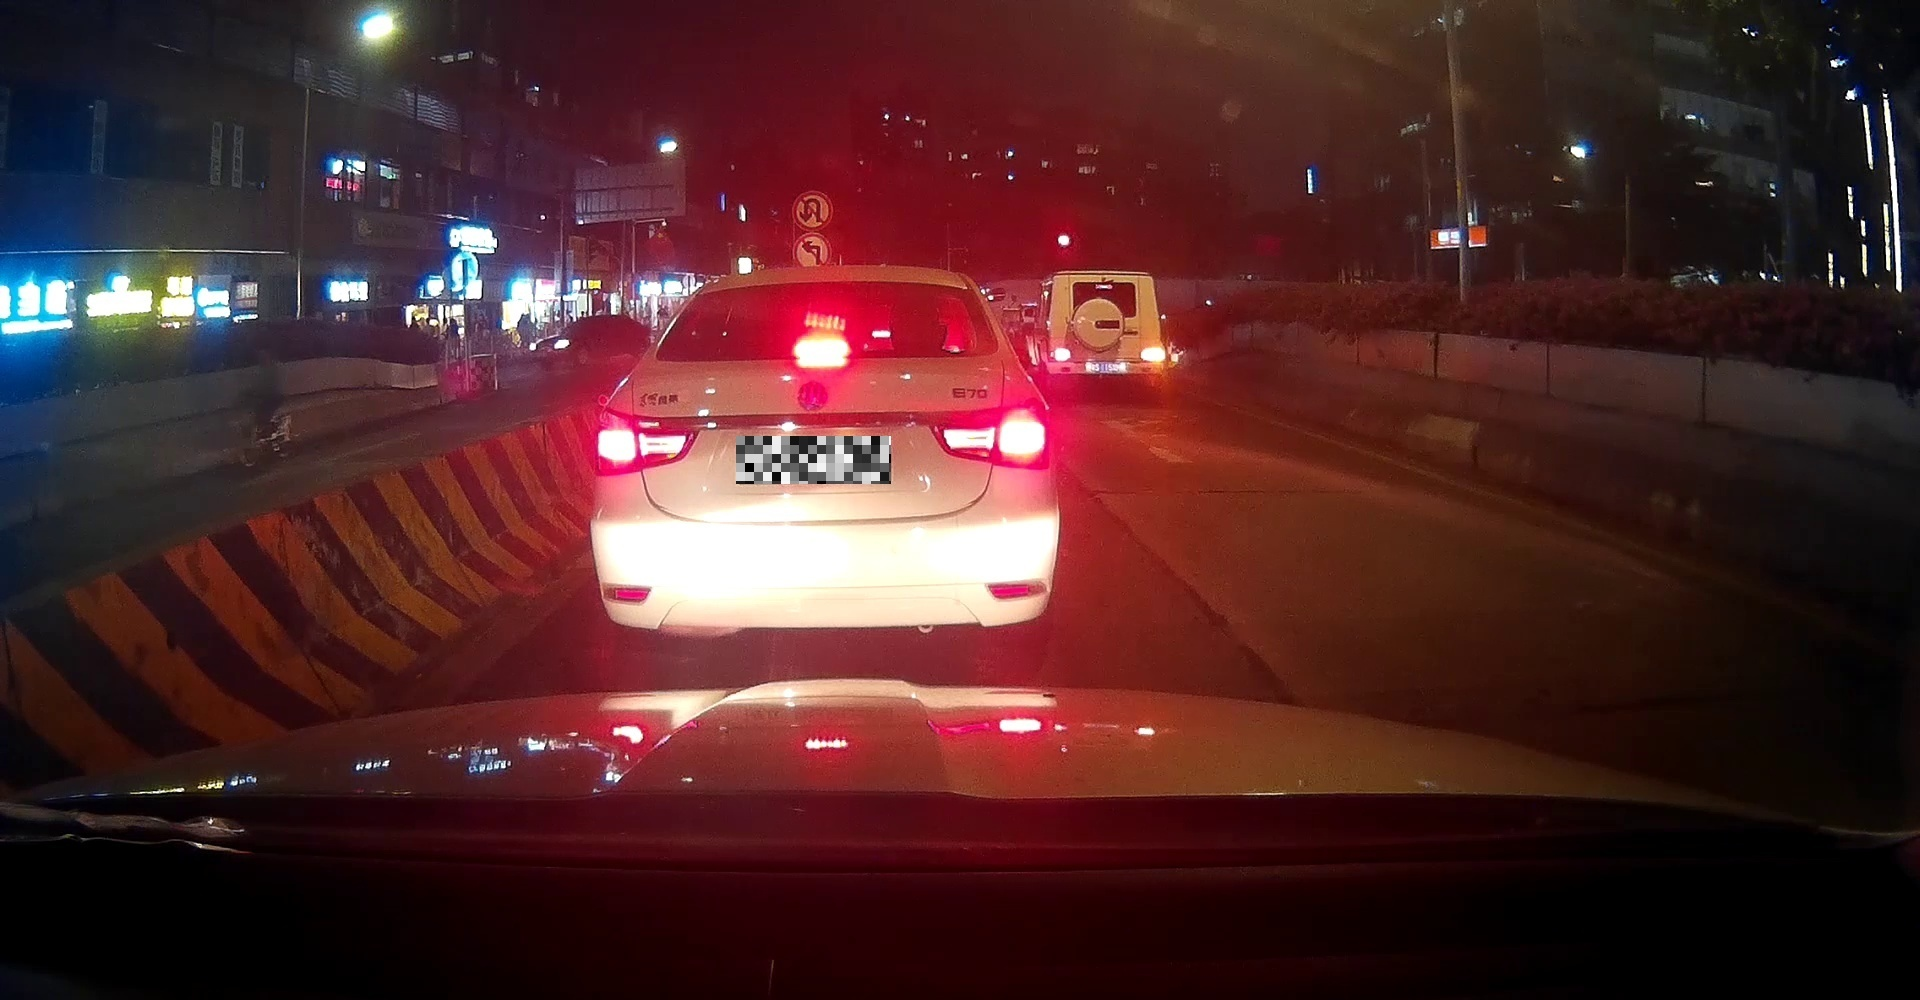L_light: (597, 409, 698, 475), (1051, 348, 1070, 360)
R_light: (930, 406, 1050, 472), (1142, 348, 1164, 360)
T_light: (791, 336, 850, 357), (1095, 283, 1112, 291)
night-brake: (590, 263, 1051, 668)
night-right: (1050, 272, 1166, 398)
plate_1: (737, 437, 891, 484)
